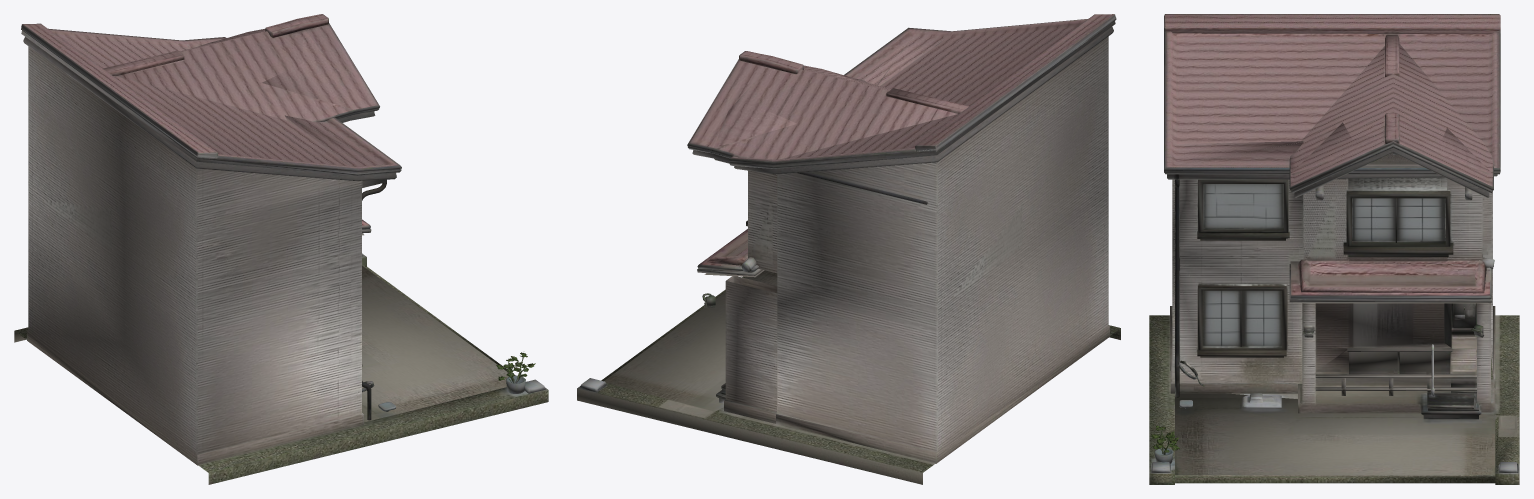
File: home.glb
The picture shows the model from 3 angles, left to right: view 1: azimuth 30°, elevation 25°; view 2: azimuth 150°, elevation 25°; view 3: azimuth 270°, elevation 25°; orthographic projection. The views are drawn at different scales.
Visible parts, largest first — view 1: tripo_node_9c1a6e41-c0cf-4ae9-9fa6-c65b7aed71a6; view 2: tripo_node_9c1a6e41-c0cf-4ae9-9fa6-c65b7aed71a6; view 3: tripo_node_9c1a6e41-c0cf-4ae9-9fa6-c65b7aed71a6.
Part boxes in pixels (x1,y1,x2,y2): tripo_node_9c1a6e41-c0cf-4ae9-9fa6-c65b7aed71a6: (14,14,548,484); tripo_node_9c1a6e41-c0cf-4ae9-9fa6-c65b7aed71a6: (577,14,1120,484); tripo_node_9c1a6e41-c0cf-4ae9-9fa6-c65b7aed71a6: (1149,14,1519,484).
Bounding box in the file's own units: 0.998 × 0.9082 × 0.9785.
1 material, 1 textured.
